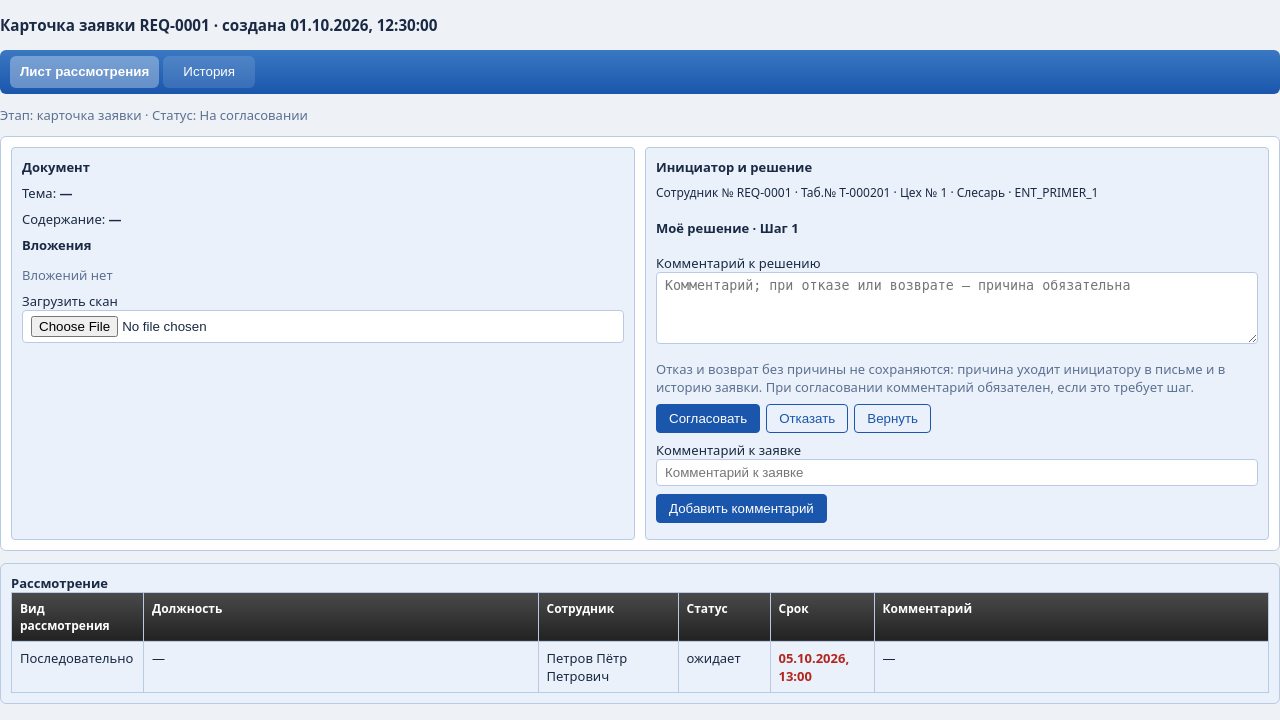
Scenario: RequestCard › владелец: при отказе без комментария отметка не отправляется
What coordinates should you click on to do the following:
click the button "Отказать"
I would click on:
 (807, 418)
Its box is [766,404,848,433].
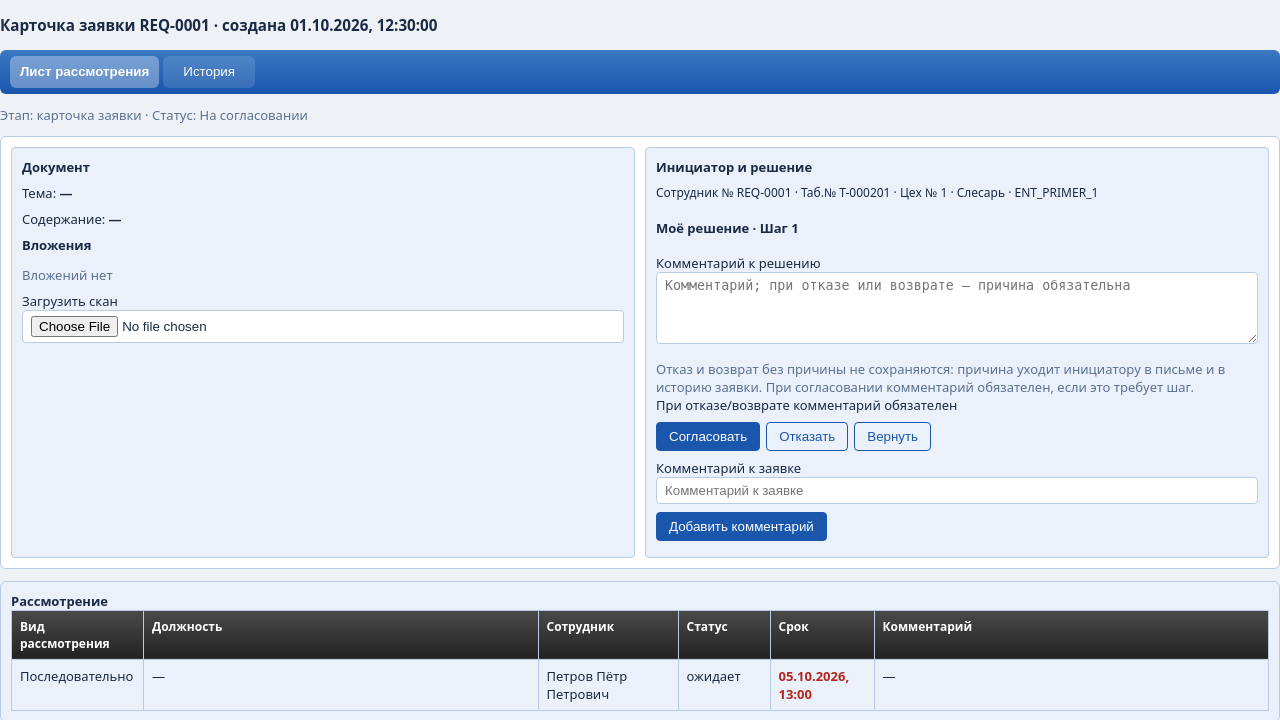
Result: the text "При отказе/возврате комментарий обязателен" is shown at [656,396,957,414]
